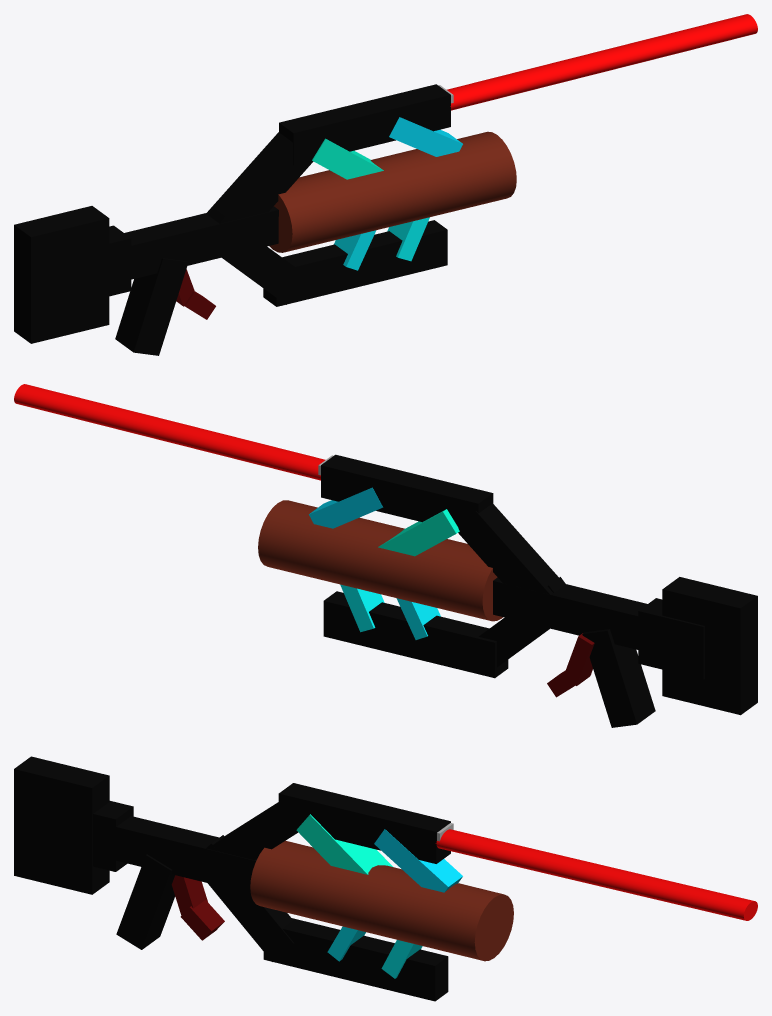
Rendered from strikers-rifle.fbx.
The picture shows the model from 3 angles, top to bottom: view 1: azimuth 30°, elevation 25°; view 2: azimuth 150°, elevation 25°; view 3: azimuth 330°, elevation 25°; orthographic projection.
Visible parts, largest first — view 1: Cylinder, Box3, Cylinder1, Box5, Box7, Box1, Box, Box4, Box6, Box9, Box10, Box2 (+2 smaller); view 2: Cylinder, Box3, Box7, Cylinder1, Box5, Box1, Box4, Box, Box2, Box10, Box6, Box9 (+3 smaller); view 3: Cylinder, Box3, Cylinder1, Box7, Box5, Box1, Box, Box6, Box4, Box10, Box9, Box2 (+4 smaller).
Part boxes in pixels (bbox=[...]): Cylinder: bbox=[269, 131, 516, 252]; Box3: bbox=[14, 206, 109, 343]; Cylinder1: bbox=[447, 14, 757, 110]; Box5: bbox=[279, 84, 450, 165]; Box7: bbox=[263, 220, 447, 306]; Box1: bbox=[124, 206, 278, 279]; Box: bbox=[115, 258, 188, 355]; Box4: bbox=[207, 132, 313, 220]; Box6: bbox=[208, 208, 307, 304]; Box9: bbox=[389, 117, 462, 156]; Box10: bbox=[312, 138, 383, 179]; Box2: bbox=[109, 225, 131, 296]; Cylinder: bbox=[258, 500, 502, 621]; Box3: bbox=[662, 577, 757, 715]; Box7: bbox=[323, 591, 508, 678]; Cylinder1: bbox=[14, 384, 325, 480]; Box5: bbox=[321, 454, 493, 527]; Box1: bbox=[493, 577, 647, 649]; Box4: bbox=[458, 503, 558, 594]; Box: bbox=[582, 629, 655, 727]; Box2: bbox=[638, 598, 704, 679]; Box10: bbox=[378, 509, 459, 556]; Box6: bbox=[479, 577, 565, 667]; Box9: bbox=[309, 487, 382, 528]; Cylinder: bbox=[250, 840, 513, 961]; Box3: bbox=[14, 756, 109, 894]; Cylinder1: bbox=[435, 829, 757, 920]; Box7: bbox=[263, 918, 448, 1001]; Box5: bbox=[278, 783, 450, 863]; Box1: bbox=[116, 816, 257, 893]; Box: bbox=[116, 854, 175, 949]; Box6: bbox=[206, 835, 293, 961]; Box4: bbox=[213, 802, 298, 860]; Box10: bbox=[296, 814, 392, 874]; Box9: bbox=[374, 829, 462, 892]; Box2: bbox=[93, 801, 133, 871].
Size of the model in its own units: 7.43 by 1.84 by 0.6922.
